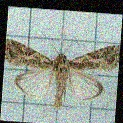Spodoptera litura: (3, 33, 118, 108)
